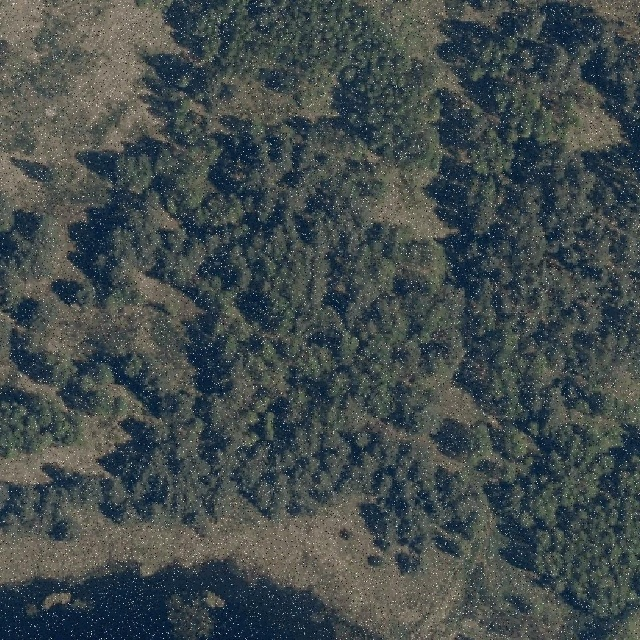vegetation: (0, 0, 638, 640)
